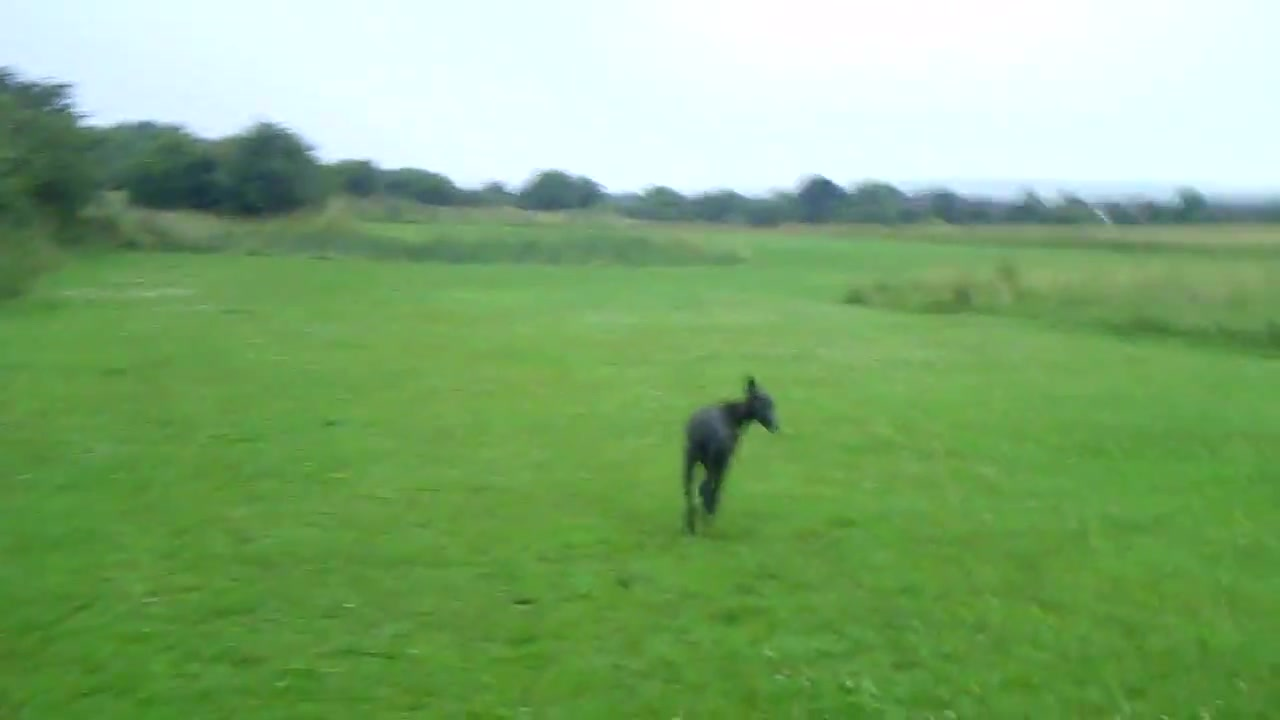dog: (680, 375, 786, 536)
